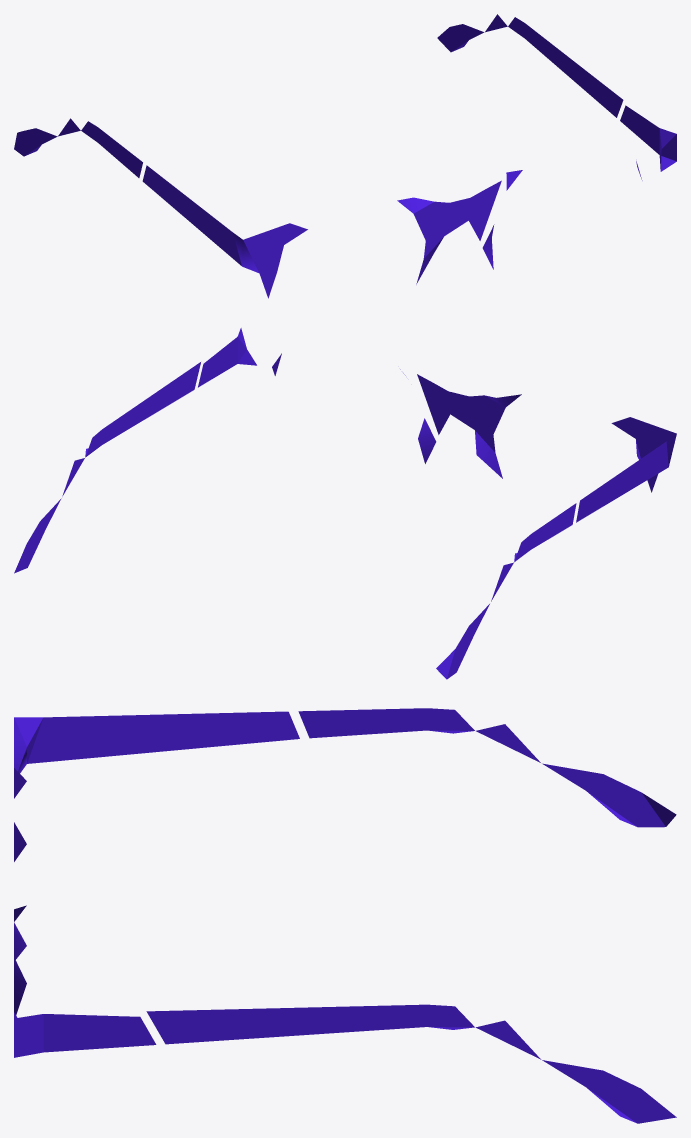
File: glasses_broke.fbx
3 renders of one model, top to bottom at view 1: azimuth 30°, elevation 25°; view 2: azimuth 150°, elevation 25°; view 3: azimuth 270°, elevation 25°, orthographic. The views are drawn at different scales.
Visible parts, largest first — view 1: glasses_01_cell.001, glasses_01_cell.002, glasses_01_cell, glasses_01_cell.003; view 2: glasses_01_cell.001, glasses_01_cell.002, glasses_01_cell.003, glasses_01_cell; view 3: glasses_01_cell.002, glasses_01_cell.001, glasses_01_cell.003, glasses_01_cell.
Boxes of the visible parts, left/top/right/bottom form: glasses_01_cell.001: left=142, top=165, right=501, bottom=298; glasses_01_cell.002: left=437, top=14, right=623, bottom=117; glasses_01_cell: left=482, top=105, right=676, bottom=269; glasses_01_cell.003: left=14, top=118, right=142, bottom=177; glasses_01_cell.001: left=417, top=374, right=676, bottom=522; glasses_01_cell.002: left=14, top=362, right=200, bottom=573; glasses_01_cell.003: left=436, top=503, right=576, bottom=679; glasses_01_cell: left=198, top=328, right=436, bottom=463; glasses_01_cell.002: left=146, top=1004, right=676, bottom=1123; glasses_01_cell.001: left=14, top=711, right=299, bottom=959; glasses_01_cell.003: left=298, top=708, right=676, bottom=827; glasses_01_cell: left=14, top=905, right=156, bottom=1057.
Bounding box in the file's own units: 14.96 × 3.24 × 13.91.
